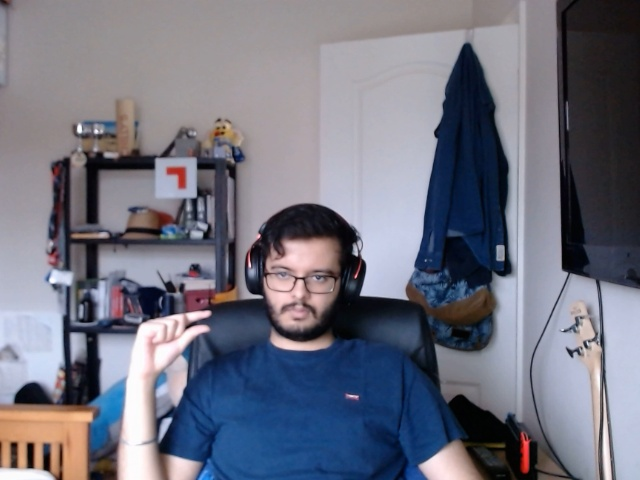Small: (122, 297, 218, 389)
